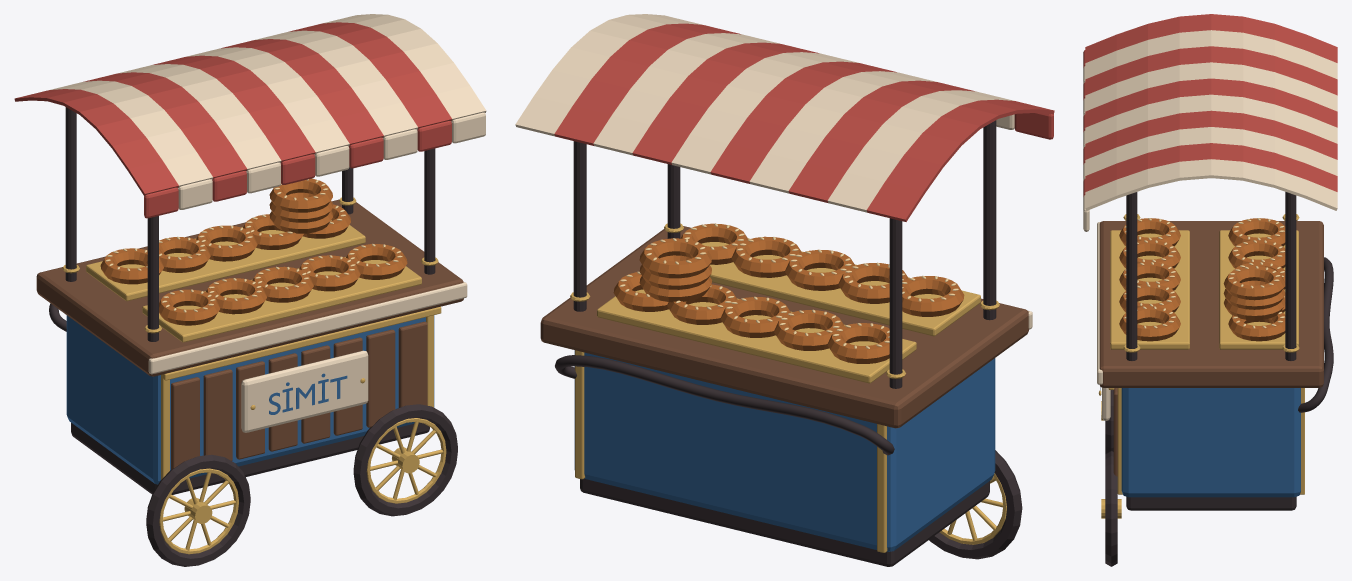
The model's file is Obstacle_Cart_Detailed.glb.
The picture shows the model from 3 angles, left to right: view 1: azimuth 30°, elevation 25°; view 2: azimuth 150°, elevation 25°; view 3: azimuth 270°, elevation 25°; orthographic projection. The views are drawn at different scales.
Visible parts, largest first — view 1: Simit street cart - Ivory ceramic, Simit street cart - Walnut boards, Simit street cart - Rose canvas, Simit street cart - Aged brass, Simit street cart - Forged iron, Simit street cart - Baked simit, Simit street cart - Iznik blue enamel, Simit street cart - Sesame seeds; view 2: Simit street cart - Iznik blue enamel, Simit street cart - Rose canvas, Simit street cart - Ivory ceramic, Simit street cart - Walnut boards, Simit street cart - Baked simit, Simit street cart - Forged iron, Simit street cart - Aged brass, Simit street cart - Sesame seeds; view 3: Simit street cart - Ivory ceramic, Simit street cart - Rose canvas, Simit street cart - Iznik blue enamel, Simit street cart - Walnut boards, Simit street cart - Baked simit, Simit street cart - Forged iron, Simit street cart - Aged brass, Simit street cart - Sesame seeds.
Boxes of the visible parts, x1=… form: Simit street cart - Ivory ceramic: x1=50, y1=14, x2=486, y2=432; Simit street cart - Walnut boards: x1=36, y1=199, x2=463, y2=469; Simit street cart - Rose canvas: x1=14, y1=22, x2=452, y2=218; Simit street cart - Aged brass: x1=62, y1=197, x2=446, y2=554; Simit street cart - Forged iron: x1=49, y1=107, x2=457, y2=566; Simit street cart - Baked simit: x1=100, y1=178, x2=407, y2=325; Simit street cart - Iznik blue enamel: x1=66, y1=315, x2=434, y2=484; Simit street cart - Sesame seeds: x1=105, y1=179, x2=402, y2=312; Simit street cart - Iznik blue enamel: x1=574, y1=350, x2=995, y2=551; Simit street cart - Rose canvas: x1=554, y1=23, x2=1054, y2=221; Simit street cart - Ivory ceramic: x1=515, y1=14, x2=1032, y2=329; Simit street cart - Walnut boards: x1=540, y1=226, x2=1029, y2=428; Simit street cart - Baked simit: x1=613, y1=223, x2=964, y2=363; Simit street cart - Forged iron: x1=555, y1=120, x2=1022, y2=566; Simit street cart - Aged brass: x1=570, y1=223, x2=1006, y2=552; Simit street cart - Sesame seeds: x1=619, y1=223, x2=958, y2=348; Simit street cart - Ivory ceramic: x1=1083, y1=30, x2=1337, y2=420; Simit street cart - Rose canvas: x1=1083, y1=14, x2=1337, y2=196; Simit street cart - Iznik blue enamel: x1=1100, y1=387, x2=1300, y2=497; Simit street cart - Walnut boards: x1=1099, y1=221, x2=1323, y2=476; Simit street cart - Baked simit: x1=1119, y1=218, x2=1285, y2=341; Simit street cart - Forged iron: x1=1105, y1=192, x2=1333, y2=566; Simit street cart - Aged brass: x1=1098, y1=214, x2=1304, y2=518; Simit street cart - Sesame seeds: x1=1124, y1=218, x2=1284, y2=328.
Size of the model in its own units: 1.68 by 2.03 by 1.12.
